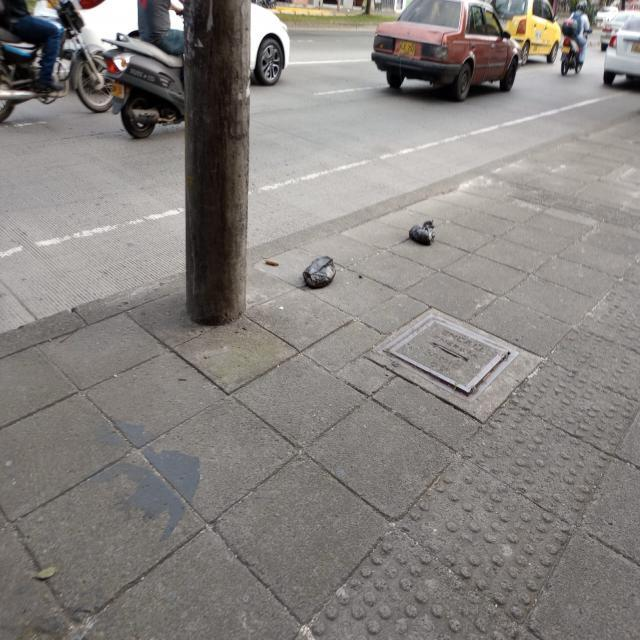Trashbag: (298, 261, 352, 287), (401, 222, 441, 250)
